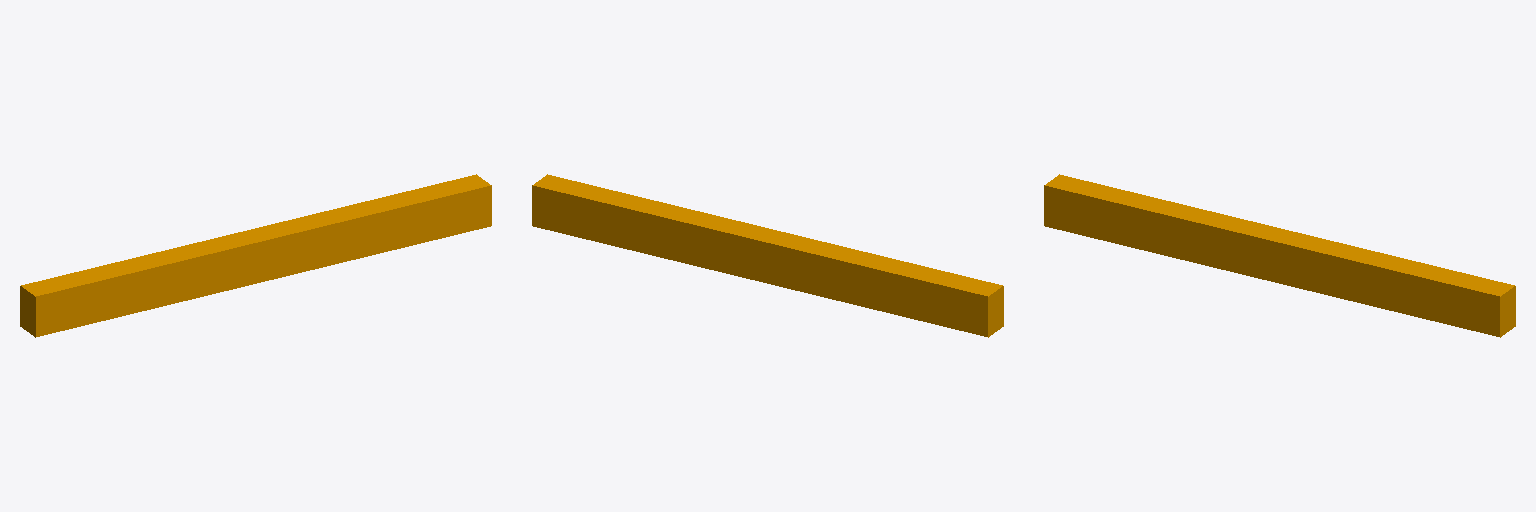
The robot description file, URDF, robot "obstacle_front":
<?xml version="1.0"?>
<robot name="obstacle_front">
    <link name="obstacle_front">
        <visual>
            <geometry>
                <mesh filename="../mesh/obstacle_front.obj" scale="1 1 1"/>
            </geometry>
        </visual>
        <collision>
            <geometry>
                <mesh filename="../mesh/obstacle_front.obj" scale="1 1 1"/>
            </geometry>
        </collision>
    </link>
</robot>

--- What the picture shows (computed from the rendered views, not written in the file) ---
3 views of the same robot in one strip: view 1: azimuth 30°, elevation 25°; view 2: azimuth 150°, elevation 25°; view 3: azimuth 330°, elevation 25° (orthographic).
Model obstacle_front with 1 links and 0 joints (none), rooted at obstacle_front, posed all joints at 0.
Visible links, largest first — view 1: obstacle_front; view 2: obstacle_front; view 3: obstacle_front.
Boxes of the visible links, x1,y1,x2,y2 form: obstacle_front: (20,174,491,337); obstacle_front: (532,174,1003,337); obstacle_front: (1044,174,1515,337).
Size in the robot's own frame: 0.35 by 0.02 by 0.03 metres.
1 mesh visuals loaded from 1 distinct referenced files (1 OBJ).